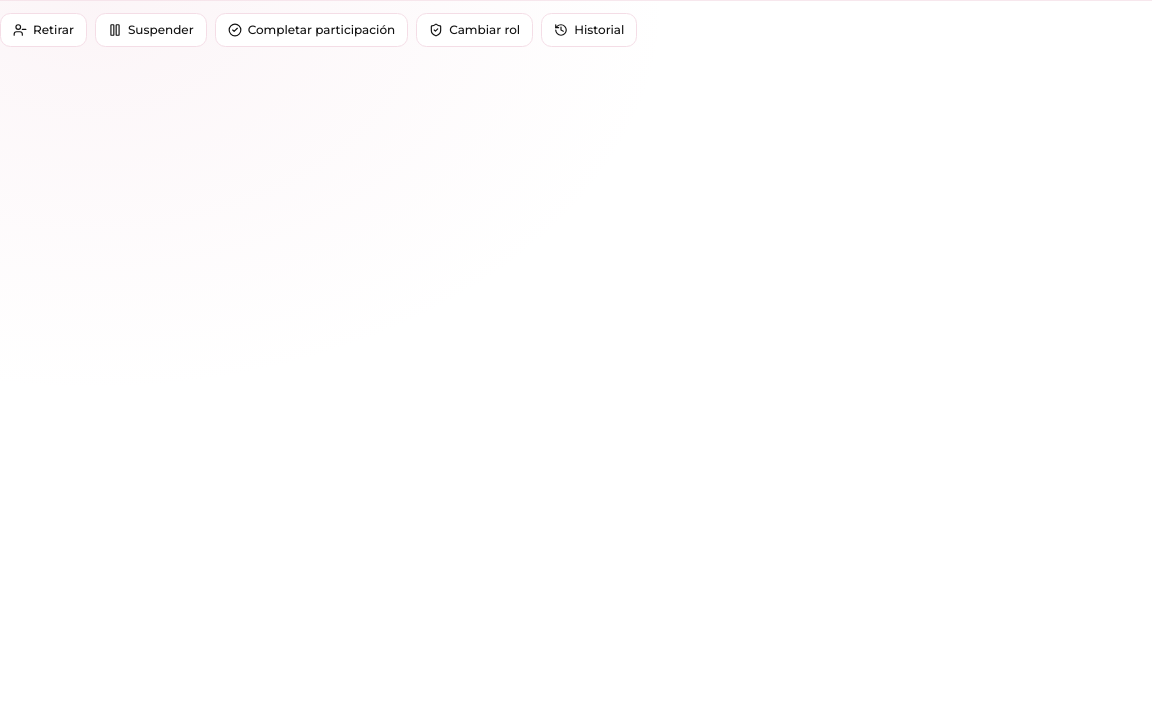
warns that completing with pending work does not turn progress into one hundred percent
Click the button "Completar participación".
click(311, 30)  # box left=215, top=13, right=408, bottom=47
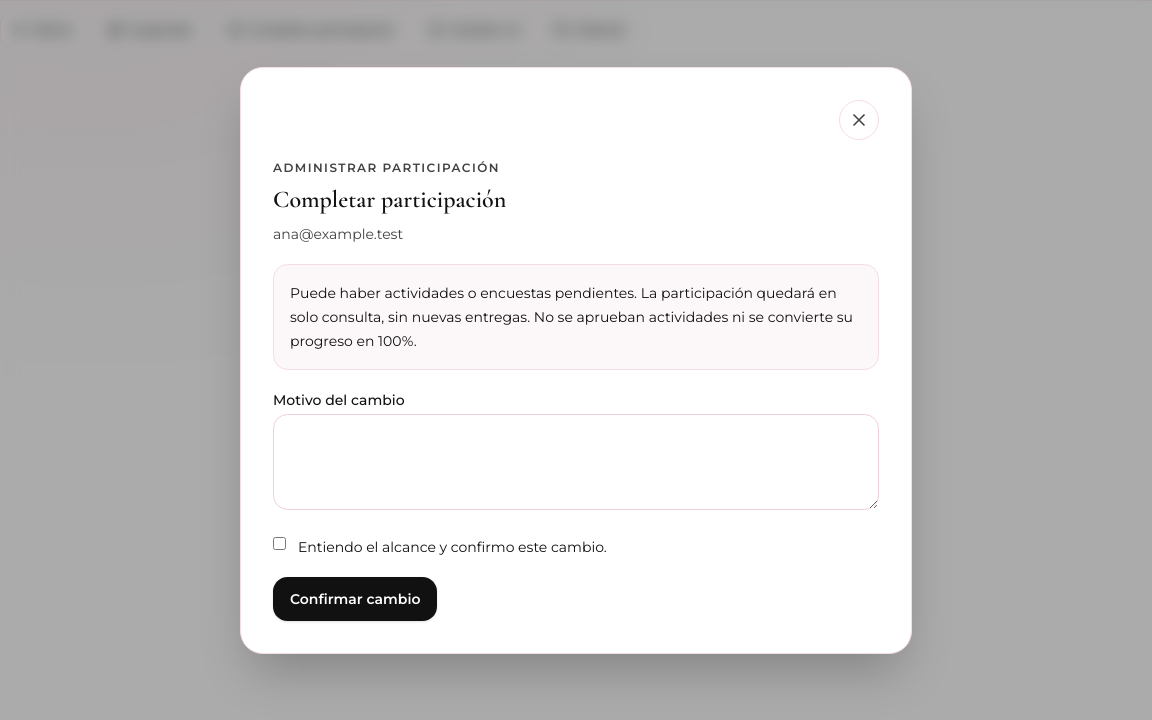
Check: the text "No se aprueban actividades ni se convierte su progreso en 100%" is shown, box left=290, top=284, right=853, bottom=350
